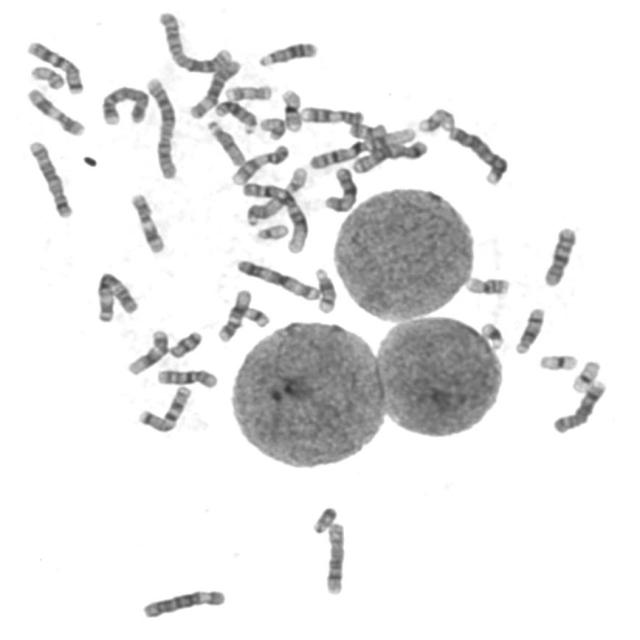A1: (238, 178, 311, 255), (304, 135, 430, 171)
A2: (155, 7, 235, 74), (142, 72, 181, 181)
A3: (231, 254, 323, 302), (92, 268, 142, 324)
B4: (444, 122, 511, 186), (98, 81, 150, 126)
B5: (24, 135, 75, 220), (348, 136, 429, 174)
C10: (540, 222, 580, 288), (154, 364, 220, 390)
C11: (22, 83, 88, 138), (127, 189, 168, 255)
C12: (124, 325, 172, 377), (214, 286, 254, 344)
C6: (185, 55, 244, 120), (138, 584, 229, 620)
C7: (22, 36, 86, 95), (134, 381, 194, 434)
C8: (549, 375, 610, 435), (321, 517, 348, 597)
C9: (228, 140, 292, 186), (298, 102, 366, 126)
D13: (256, 36, 320, 68), (210, 96, 259, 136)
D14: (512, 303, 548, 355), (310, 263, 340, 315)
D15: (204, 116, 248, 168), (245, 189, 293, 229)
E16: (276, 84, 306, 133), (462, 271, 513, 296)
E17: (413, 102, 457, 134), (220, 80, 275, 102)
E18: (166, 326, 205, 359), (346, 118, 392, 140)
F19: (568, 356, 603, 393), (535, 349, 580, 373)
F20: (27, 60, 66, 91), (256, 112, 288, 142)
G21: (477, 318, 507, 350), (235, 304, 267, 331)
G22: (282, 163, 310, 194), (252, 220, 290, 242)
X: (320, 163, 360, 213)
Y: (309, 502, 340, 534)
